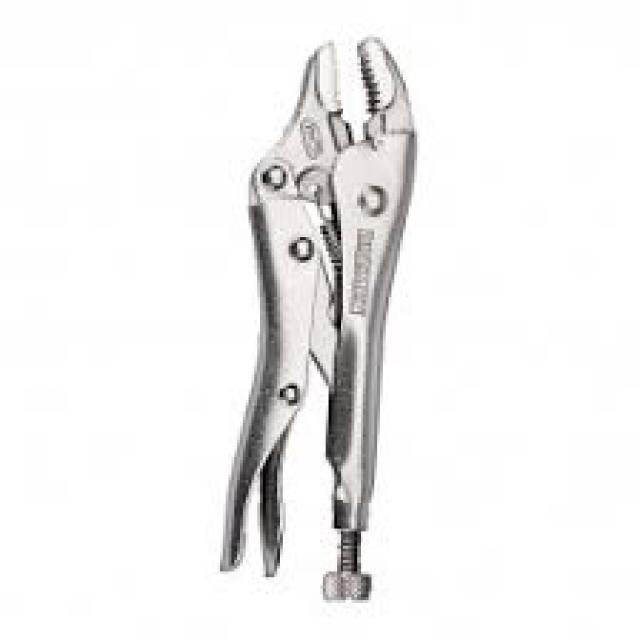pliers: (216, 31, 426, 603)
